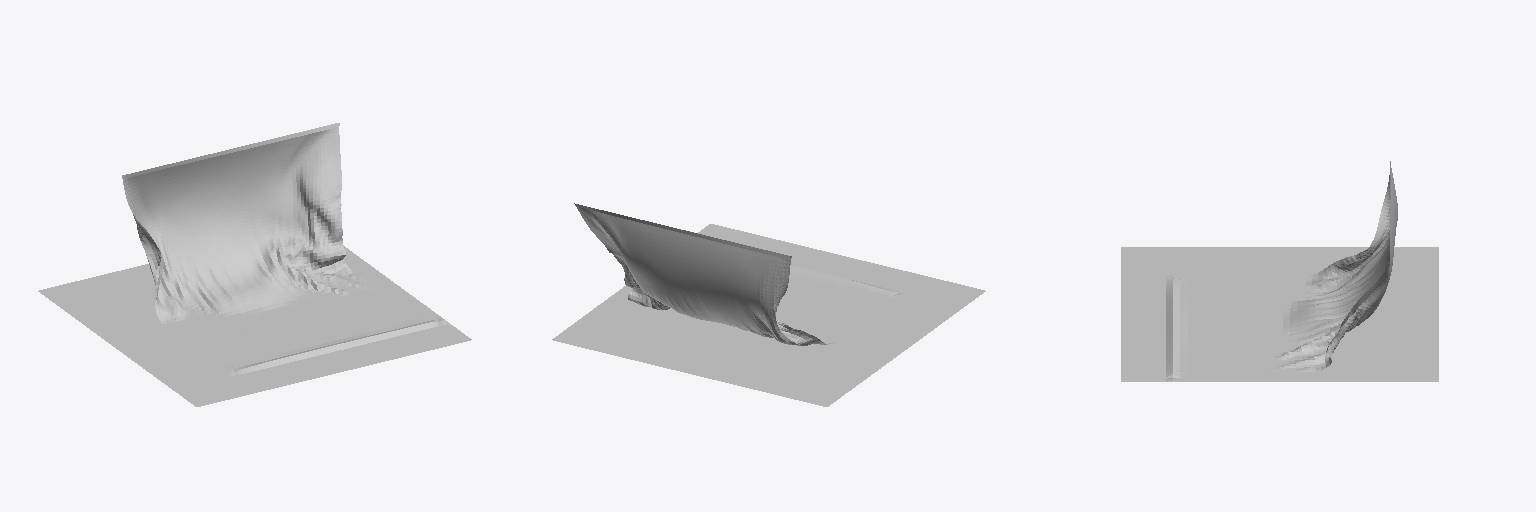
File: cloth.obj
The picture shows the model from 3 angles: view 1: azimuth 30°, elevation 25°; view 2: azimuth 150°, elevation 25°; view 3: azimuth 270°, elevation 25°; orthographic projection.
Parts seen in each view (by area): view 1: Plane.001, Plane; view 2: Plane, Plane.001; view 3: Plane, Plane.001.
Boxes of the visible parts, x1,y1,x2,y2 form: Plane.001: [122, 123, 449, 376]; Plane: [38, 246, 471, 406]; Plane: [552, 224, 985, 406]; Plane.001: [574, 203, 905, 345]; Plane: [1121, 247, 1438, 381]; Plane.001: [1166, 161, 1397, 381].
Size of the model in its own units: 16.71 by 6.81 by 16.6.